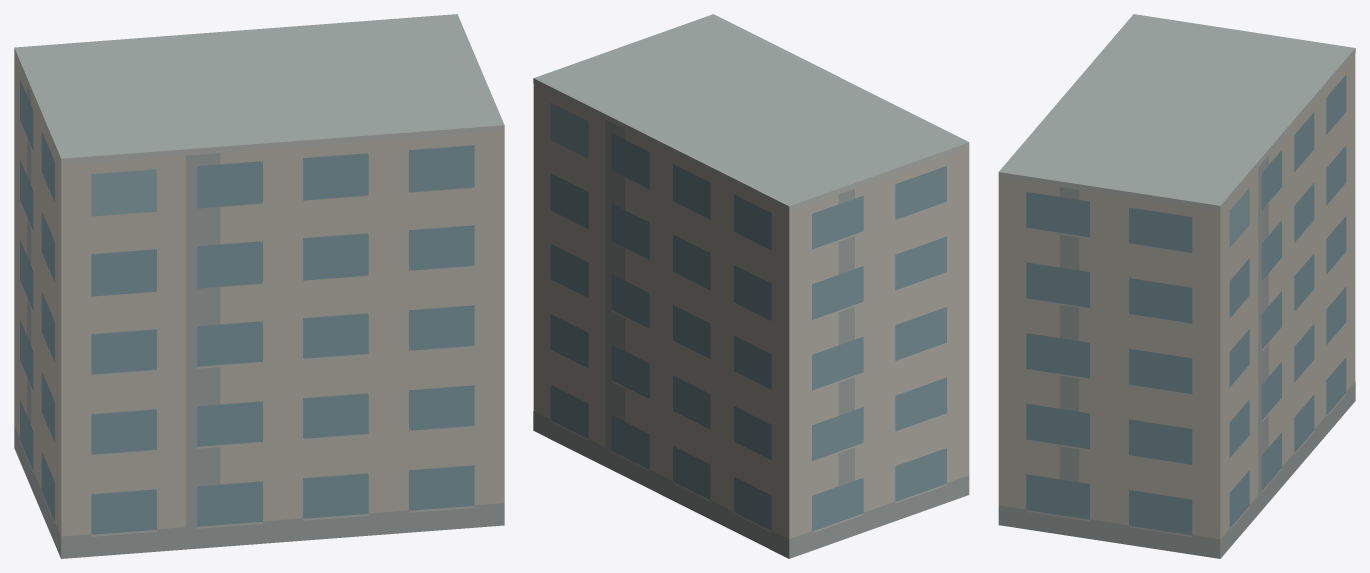
Rendered from residential-cb6c829f-a42a-4400-a518-8e00ab107afe.glb.
The picture shows the model from 3 angles, left to right: view 1: azimuth 30°, elevation 25°; view 2: azimuth 150°, elevation 25°; view 3: azimuth 270°, elevation 25°; orthographic projection. The views are drawn at different scales.
Visible parts, largest first — view 1: residential-cb6c829f-a42a-4400-a518-8e00ab107afe.tmp; view 2: residential-cb6c829f-a42a-4400-a518-8e00ab107afe.tmp; view 3: residential-cb6c829f-a42a-4400-a518-8e00ab107afe.tmp.
Part boxes in pixels (x1=…): residential-cb6c829f-a42a-4400-a518-8e00ab107afe.tmp: x1=14, y1=14, x2=504, y2=558; residential-cb6c829f-a42a-4400-a518-8e00ab107afe.tmp: x1=533, y1=14, x2=969, y2=558; residential-cb6c829f-a42a-4400-a518-8e00ab107afe.tmp: x1=998, y1=14, x2=1355, y2=558.
Size of the model in its own units: 17.78 by 15.25 by 13.98.
